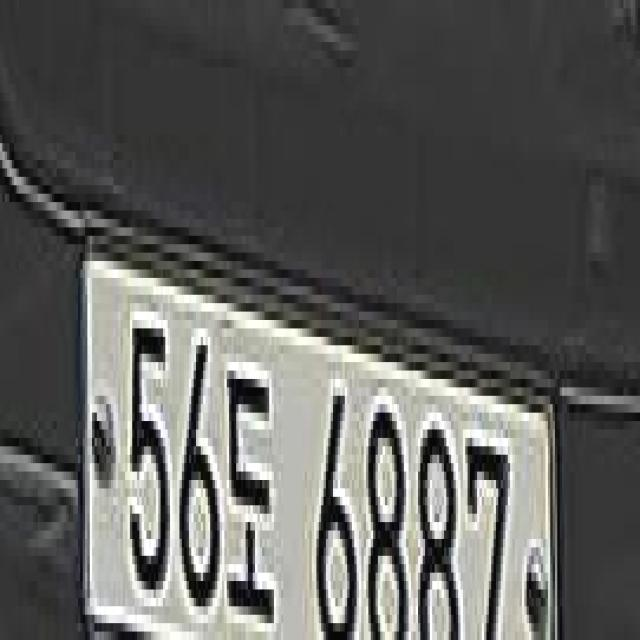illegal_plate: (73, 238, 565, 636)
